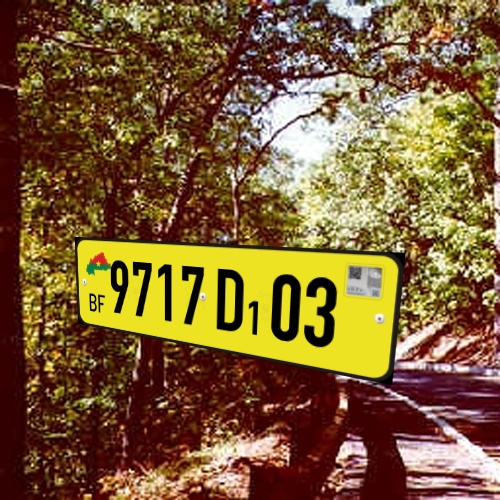plate: (65, 227, 423, 400)
